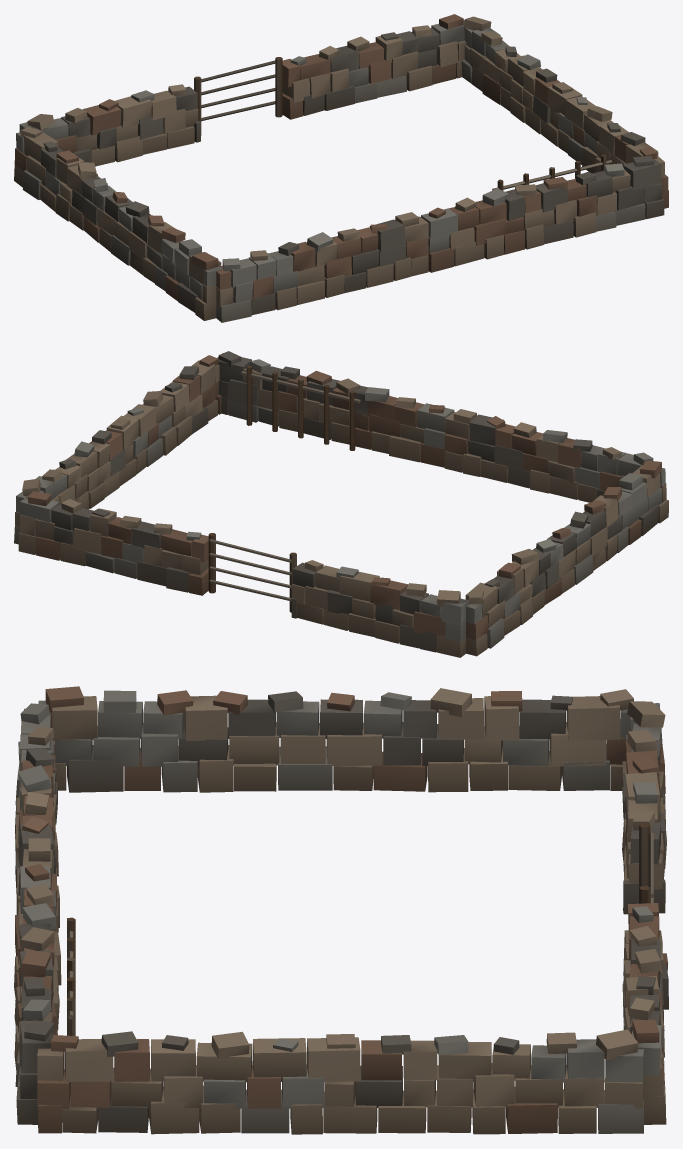
The model's file is casa_corral_pirca_b.glb.
3 views of the same model, one above another, from view 1: azimuth 30°, elevation 25°; view 2: azimuth 150°, elevation 25°; view 3: azimuth 270°, elevation 25° (orthographic). The views are drawn at different scales.
Visible parts, largest first — view 1: casa_corral_pirca_b; view 2: casa_corral_pirca_b; view 3: casa_corral_pirca_b.
Boxes of the visible parts, x1,y1,x2,y2 form: casa_corral_pirca_b: (14, 14, 668, 322); casa_corral_pirca_b: (14, 351, 668, 657); casa_corral_pirca_b: (14, 686, 668, 1134).
Bounding box in the file's own units: 12.69 × 1.5 × 9.7.
